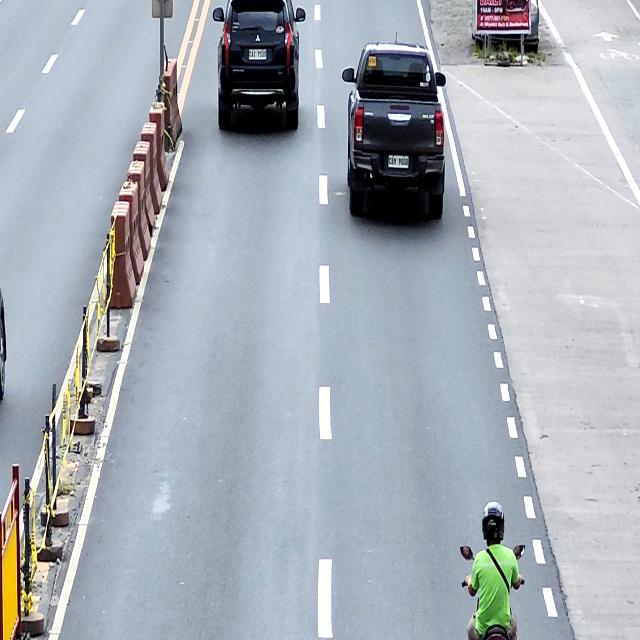Car: (342, 42, 446, 220), (212, 0, 306, 130)
License-Plate: (388, 155, 408, 167), (248, 49, 266, 60)
